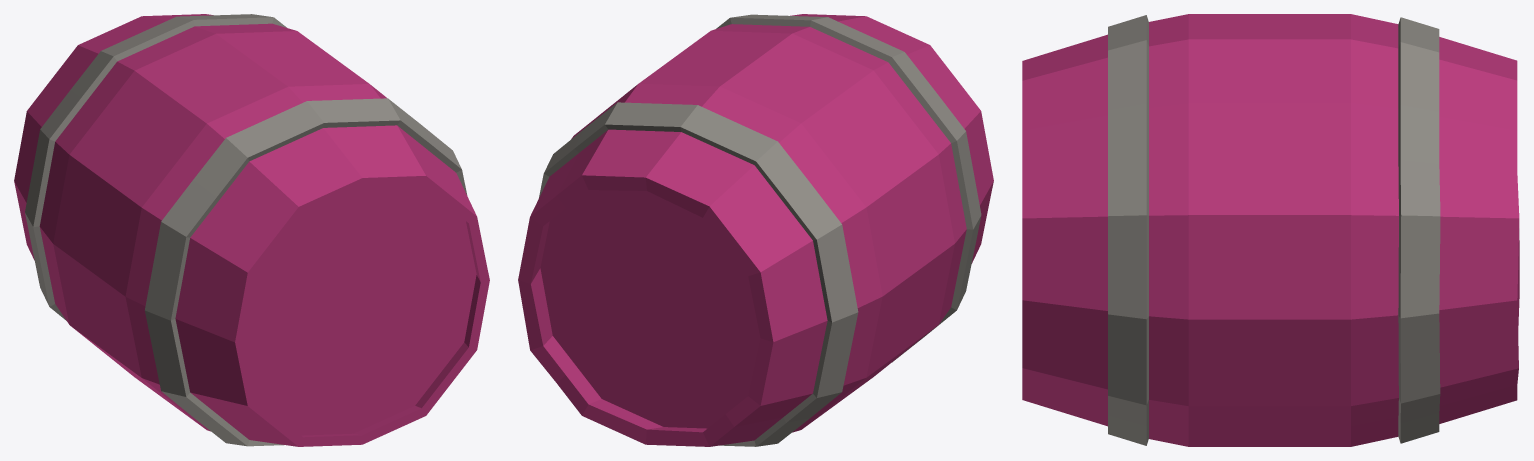
File: dahl.fbx
The picture shows the model from 3 angles, left to right: view 1: azimuth 30°, elevation 25°; view 2: azimuth 150°, elevation 25°; view 3: azimuth 270°, elevation 25°; orthographic projection. The views are drawn at different scales.
Visible parts, largest first — view 1: Dahl; view 2: Dahl; view 3: Dahl.
Part boxes in pixels (x1=…): Dahl: x1=14, y1=14, x2=489, y2=446; Dahl: x1=518, y1=14, x2=993, y2=446; Dahl: x1=1022, y1=14, x2=1519, y2=446.
Bounding box in the file's own units: 255 × 255 × 301.
